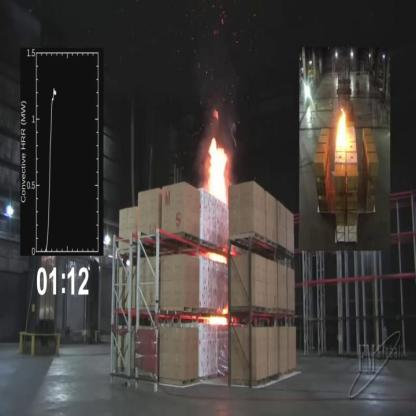fire: (206, 135, 230, 208)
